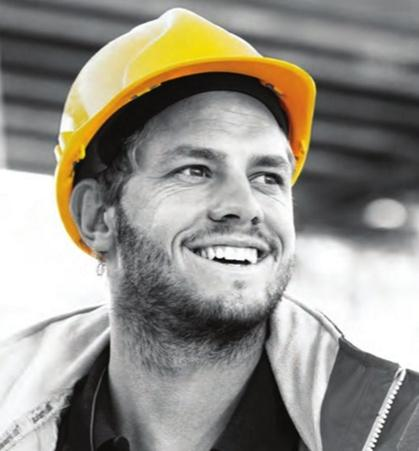helmet: (55, 6, 319, 265)
